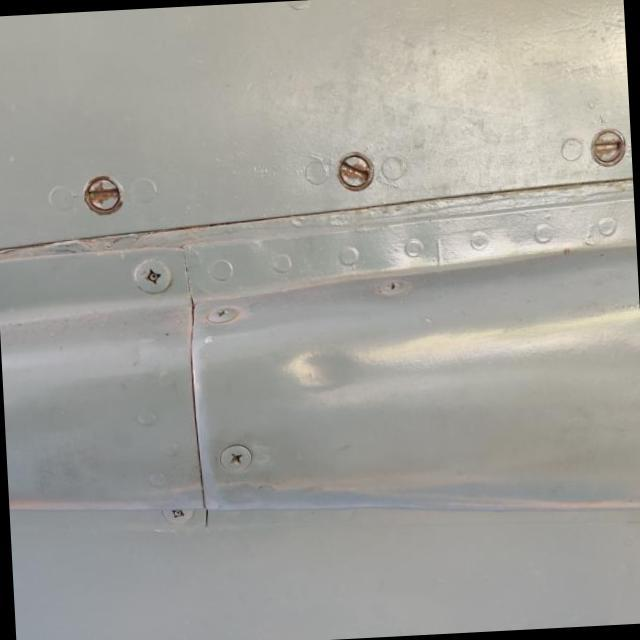Dent: (272, 328, 384, 417)
